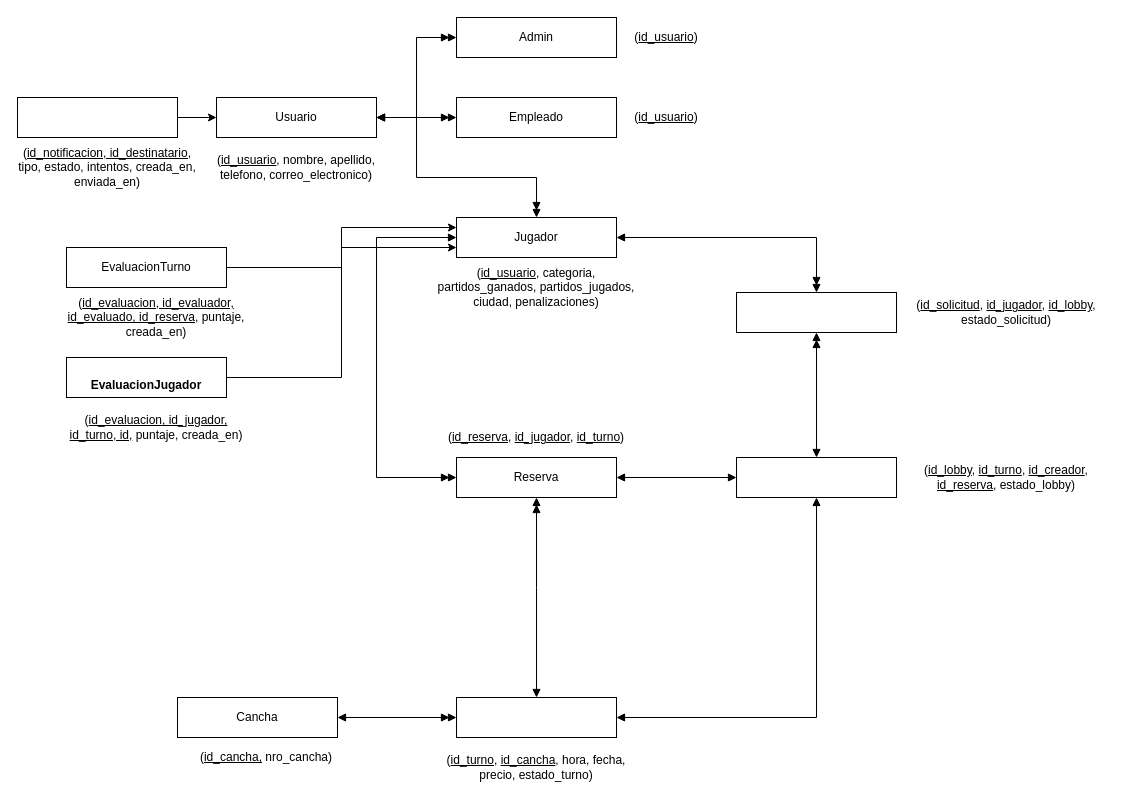
This 1134x805 diagram has some shape labels left out. The centre of each missing label's shape, as x and y in pixels:
Lobby: pixel 816 477
Notificacion: pixel 97 117
Solicitud: pixel 816 312
Turno: pixel 536 717
